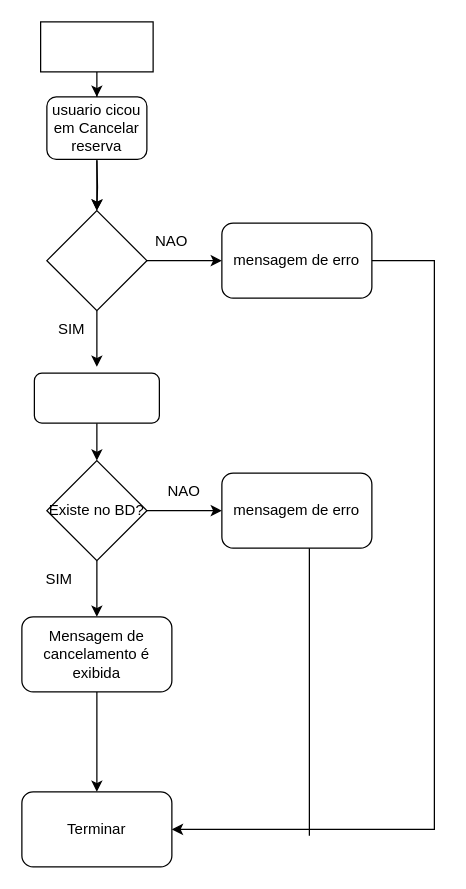
Some shapes in this 466 by 889 pixel diagram are drawn without their labels. Here are the shapes that lost their labels. From the top down, the centre of each, then its label:
point (96, 46): Iniciar
point (96, 260): dados corretos?
point (96, 397): teste no BD
